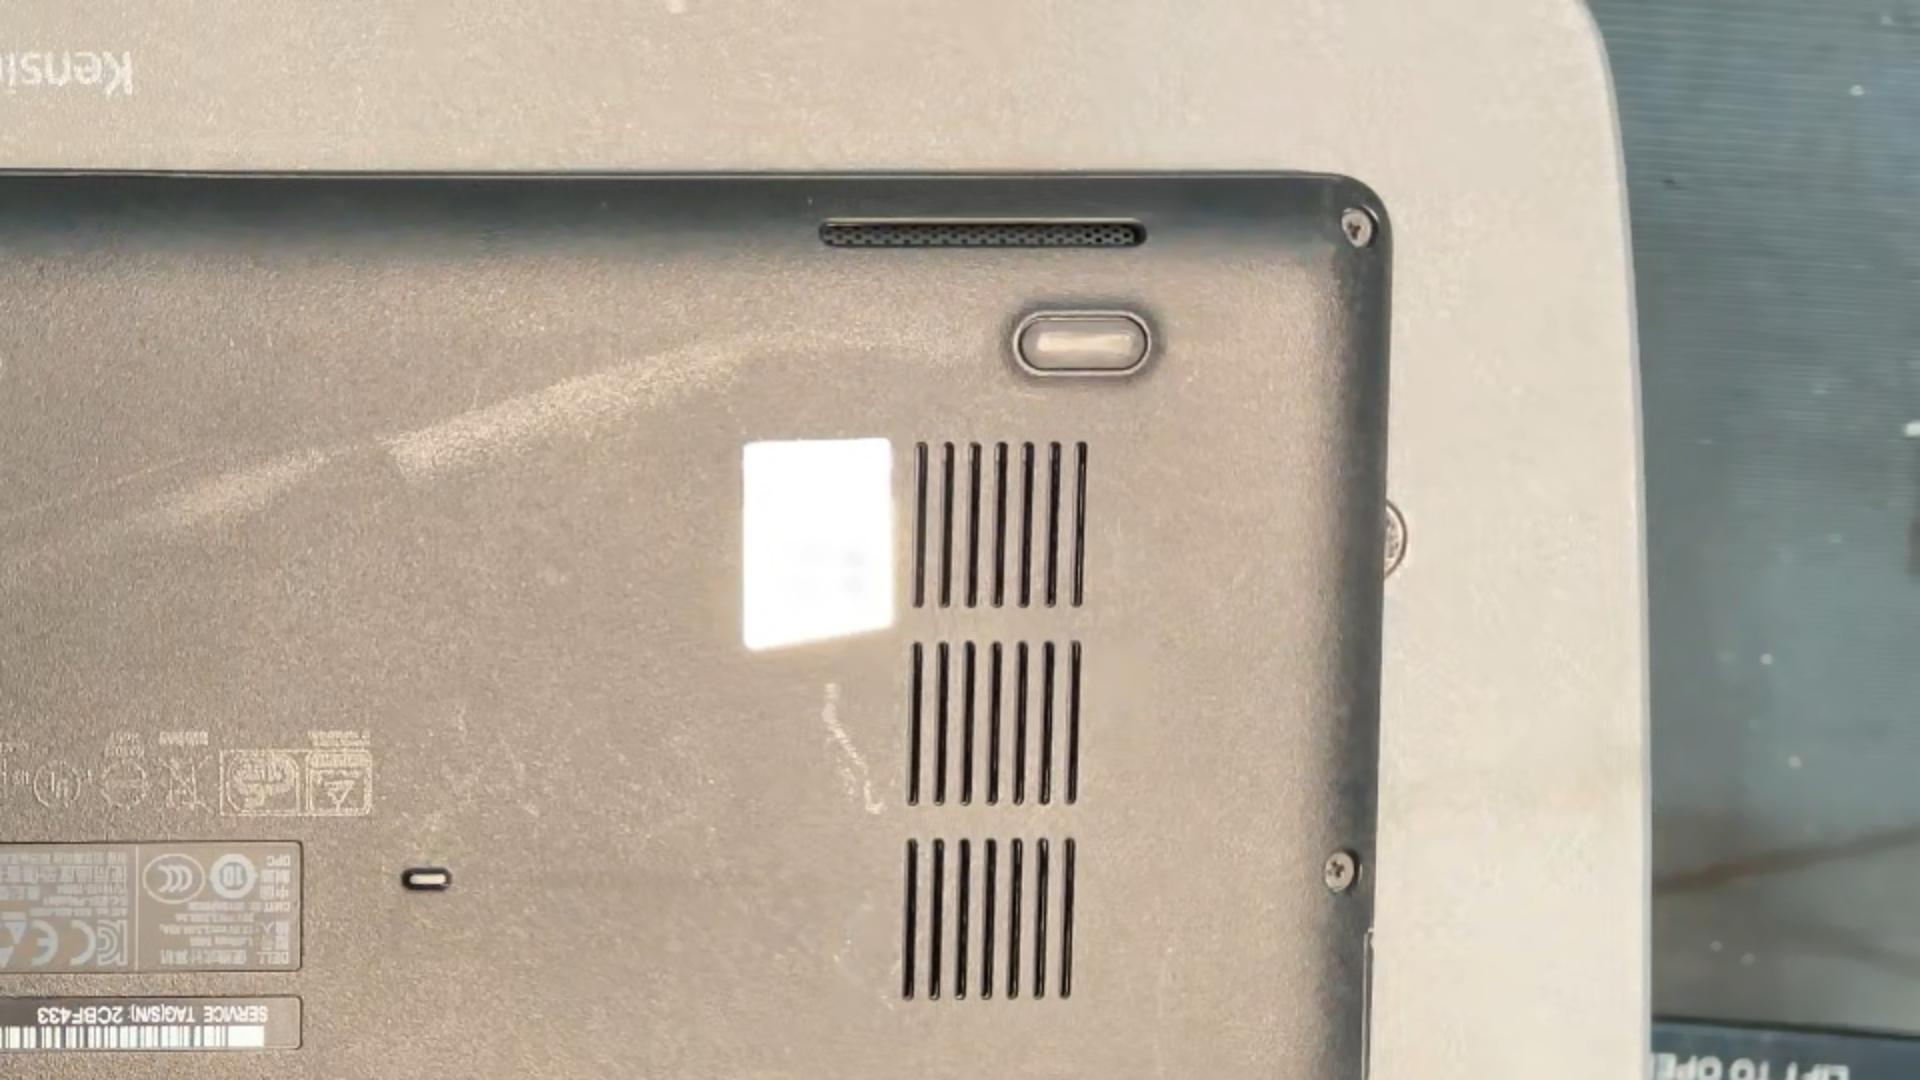scratches: (90, 334, 902, 536), (816, 680, 888, 814), (0, 484, 88, 527)
